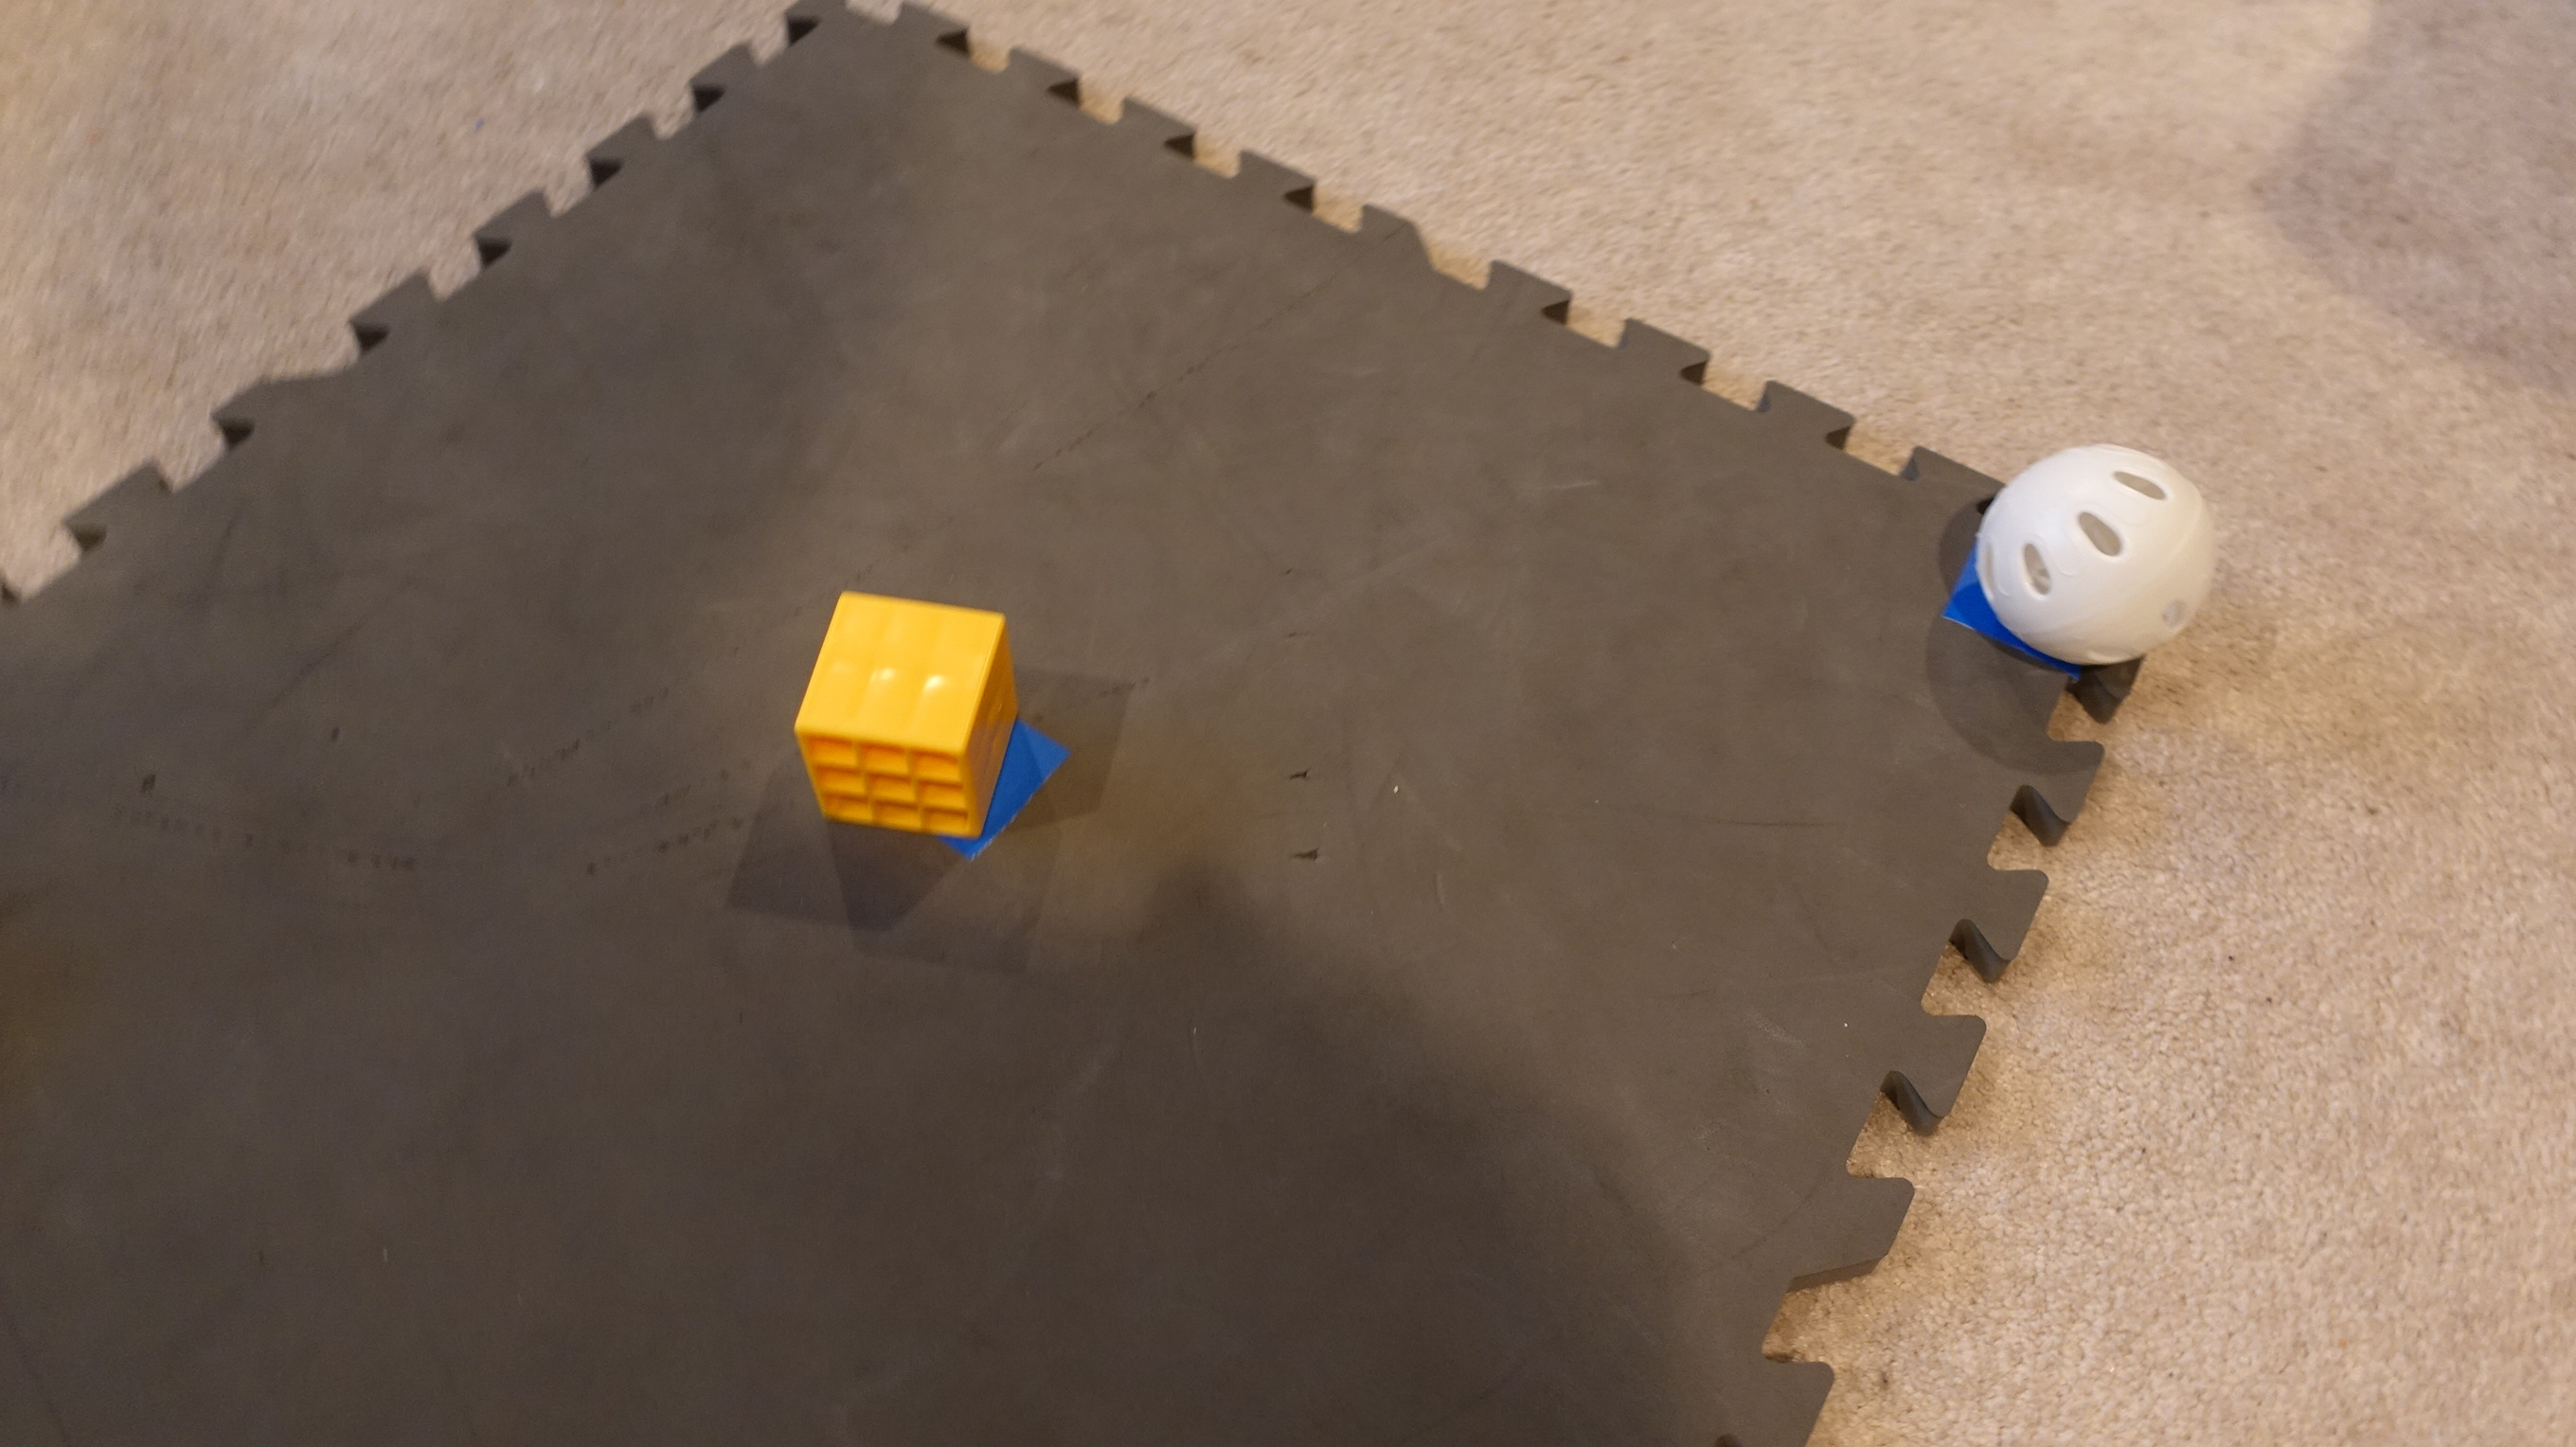gold: (787, 584, 1023, 853)
silver: (1971, 439, 2217, 663)
